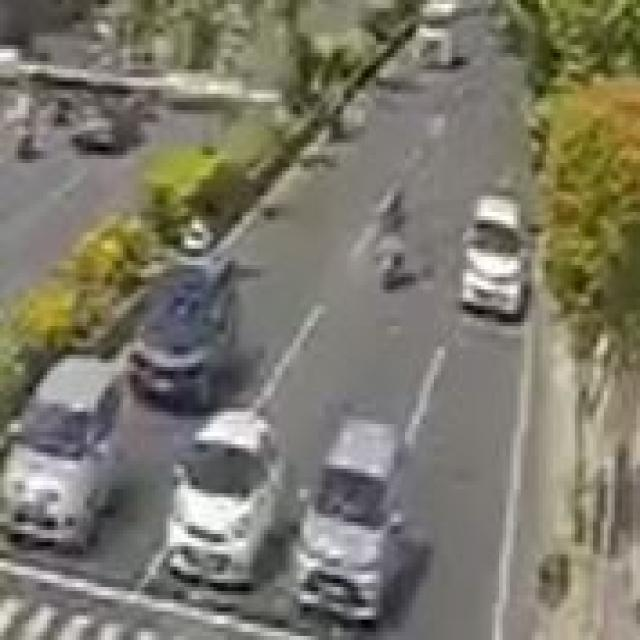car: (0, 363, 128, 564), (314, 413, 432, 630), (182, 406, 280, 601), (130, 263, 259, 403), (459, 190, 538, 342), (405, 0, 494, 90)
motorbike: (363, 192, 422, 302)
